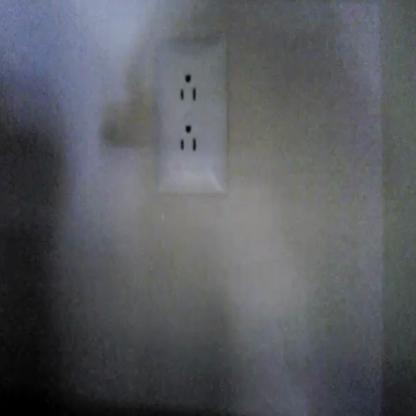OUTLET: (155, 36, 229, 196)
